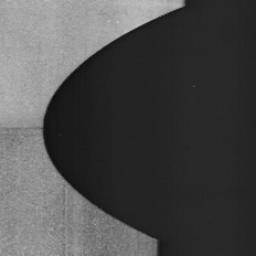Crescent gap: (42, 7, 182, 239)
